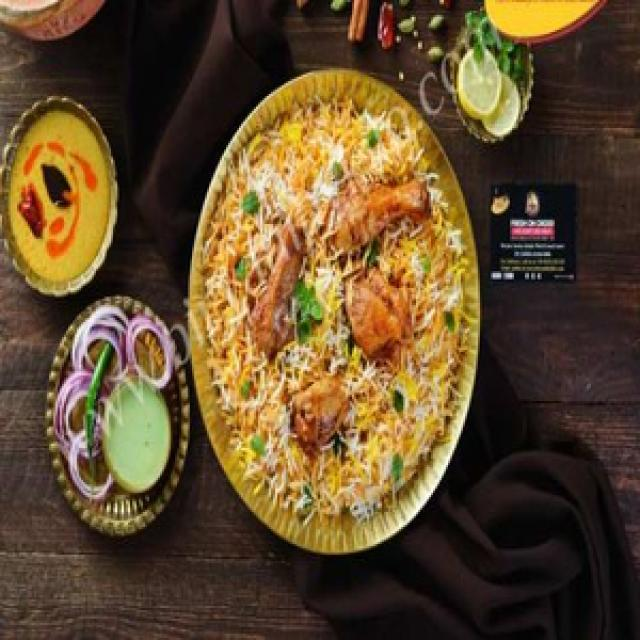chicken biriyani: (188, 82, 478, 537)
